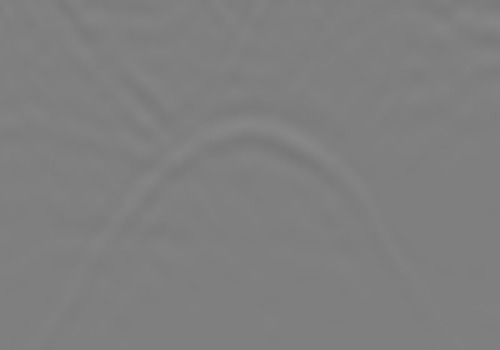hyperbola: (55, 114, 436, 316)
